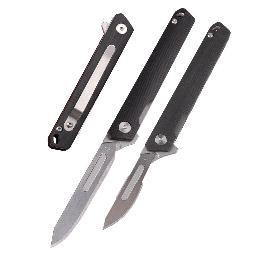scalpel: (50, 8, 196, 248), (102, 22, 232, 230)
